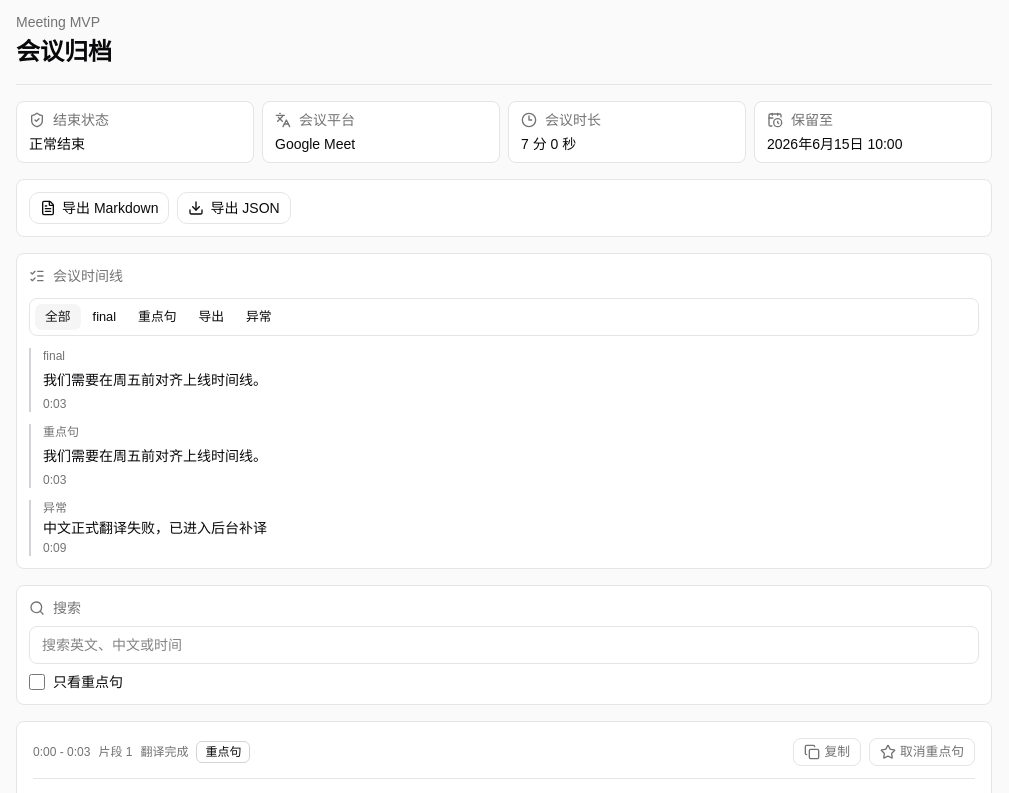
Test: ArchivePage › creates a Markdown export and shows a short-lived download link
This screenshot has width=1009, height=793.
What coordinates should you click on to do the following:
click the button "导出 Markdown"
I would click on:
 (99, 208)
Its box is [29, 192, 170, 224].
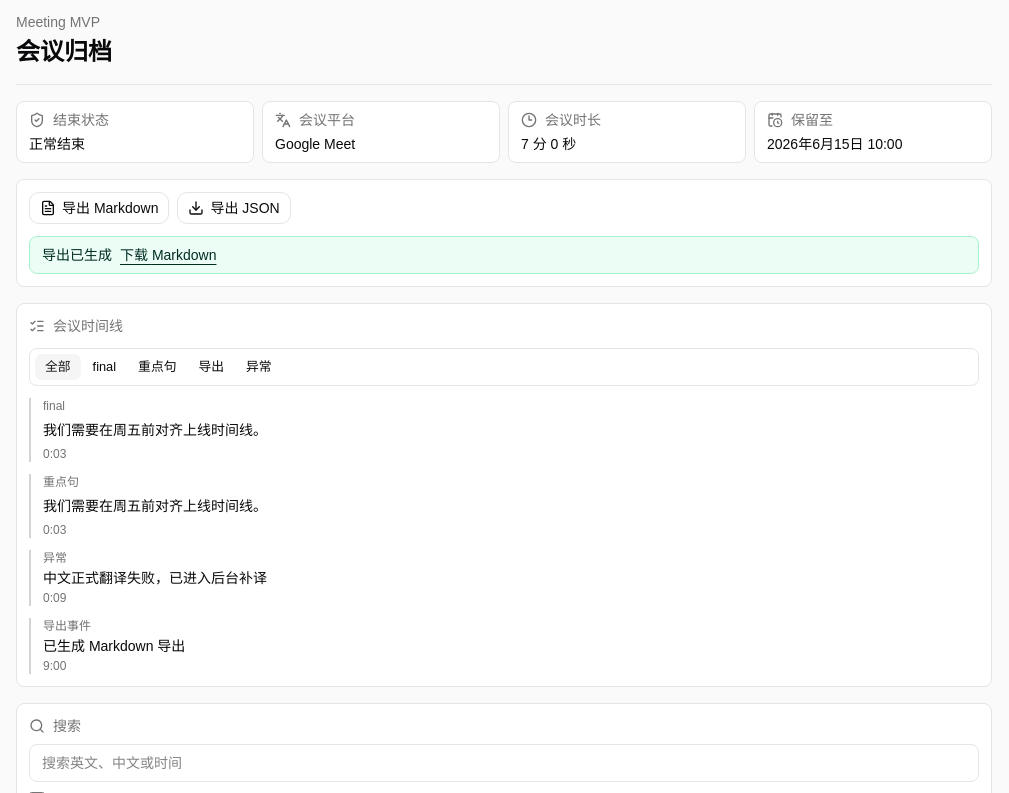
Expected: the text "导出已生成" is shown, [42, 245, 112, 265]
Expected: the text "已生成 Markdown 导出" is shown, [43, 638, 185, 654]
